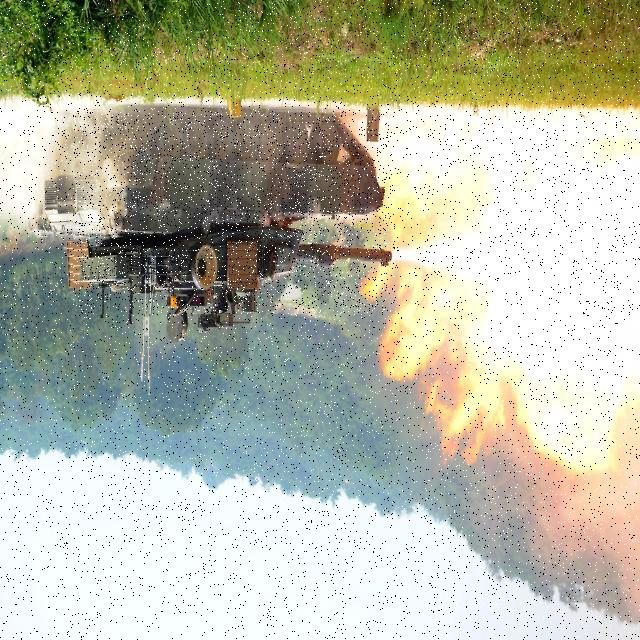MIL_MBT: (73, 111, 395, 313)
